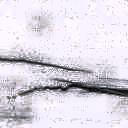crackTip: (1, 54, 128, 99)
